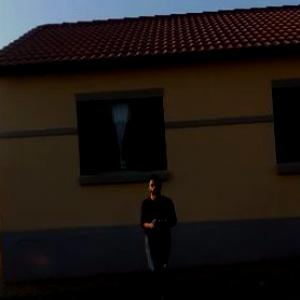follow: (136, 166, 182, 299)
